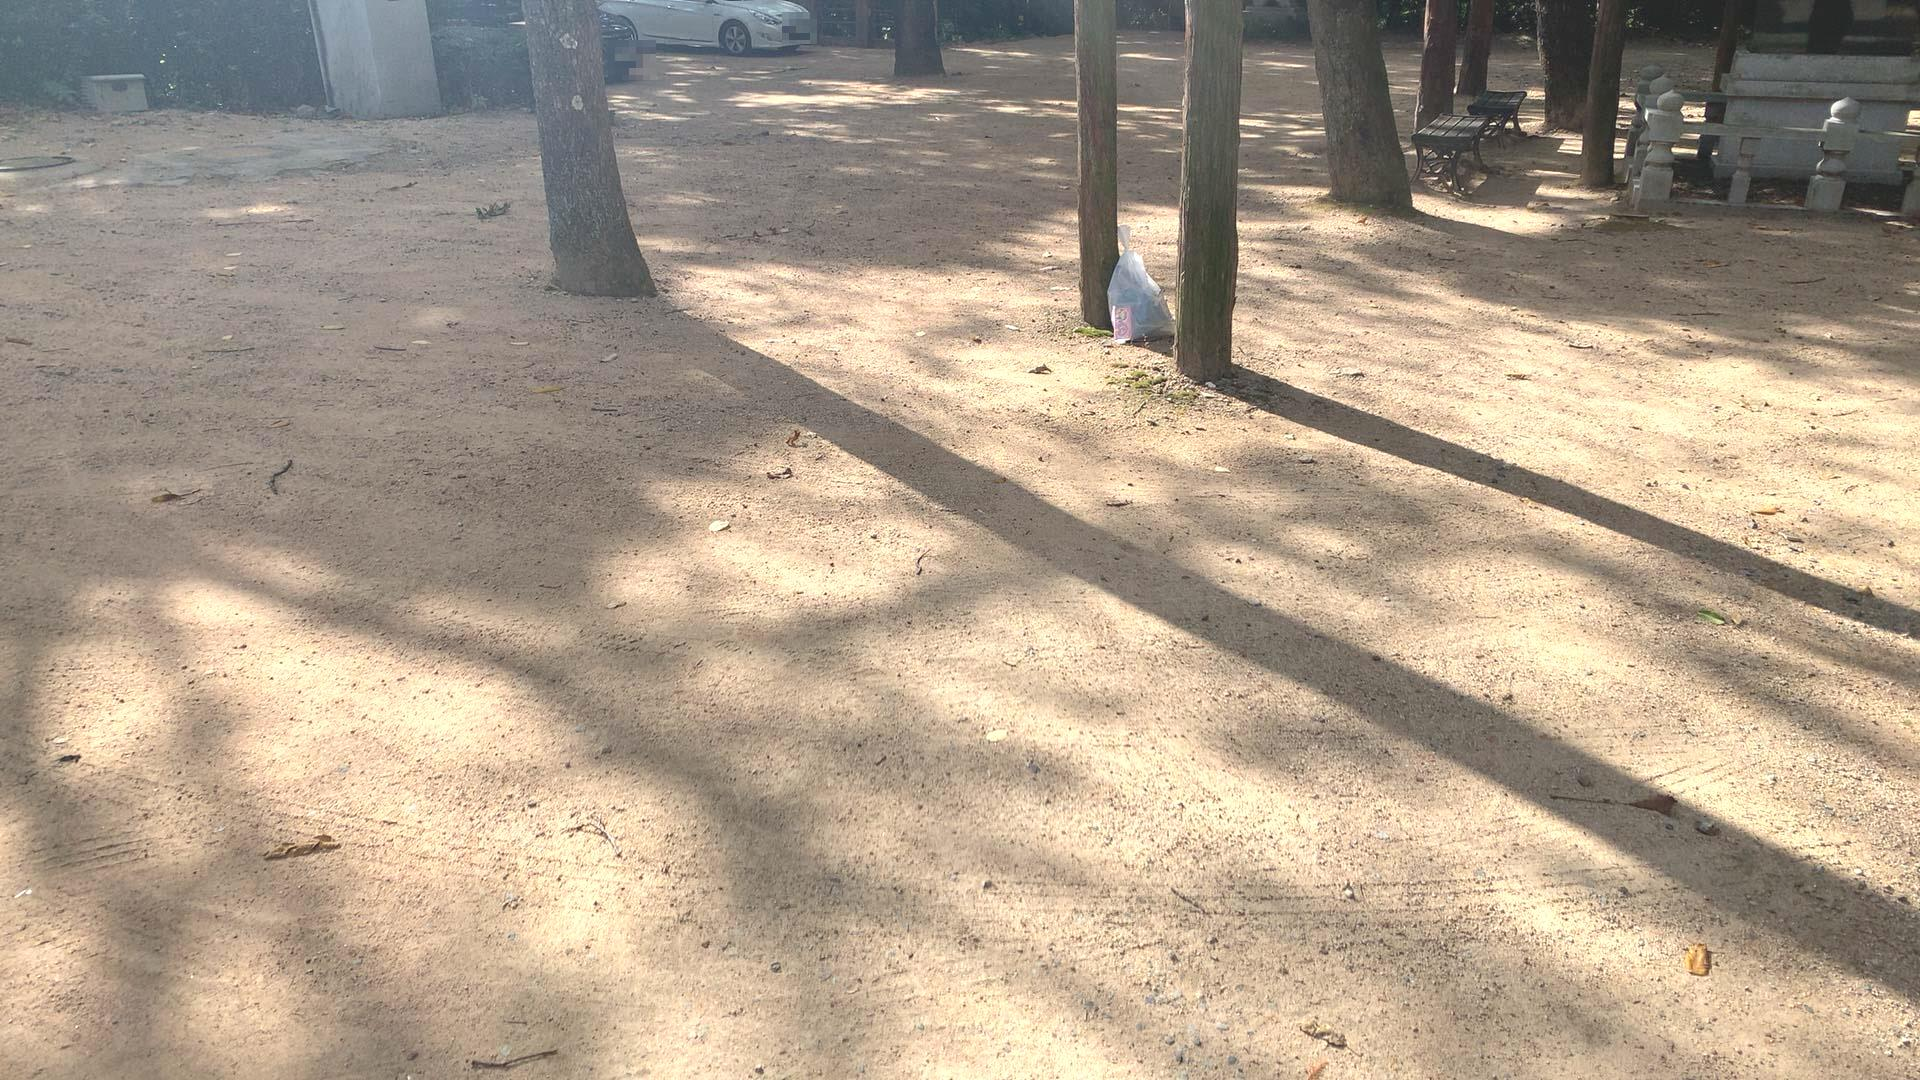white_bag: (1101, 220, 1180, 347)
